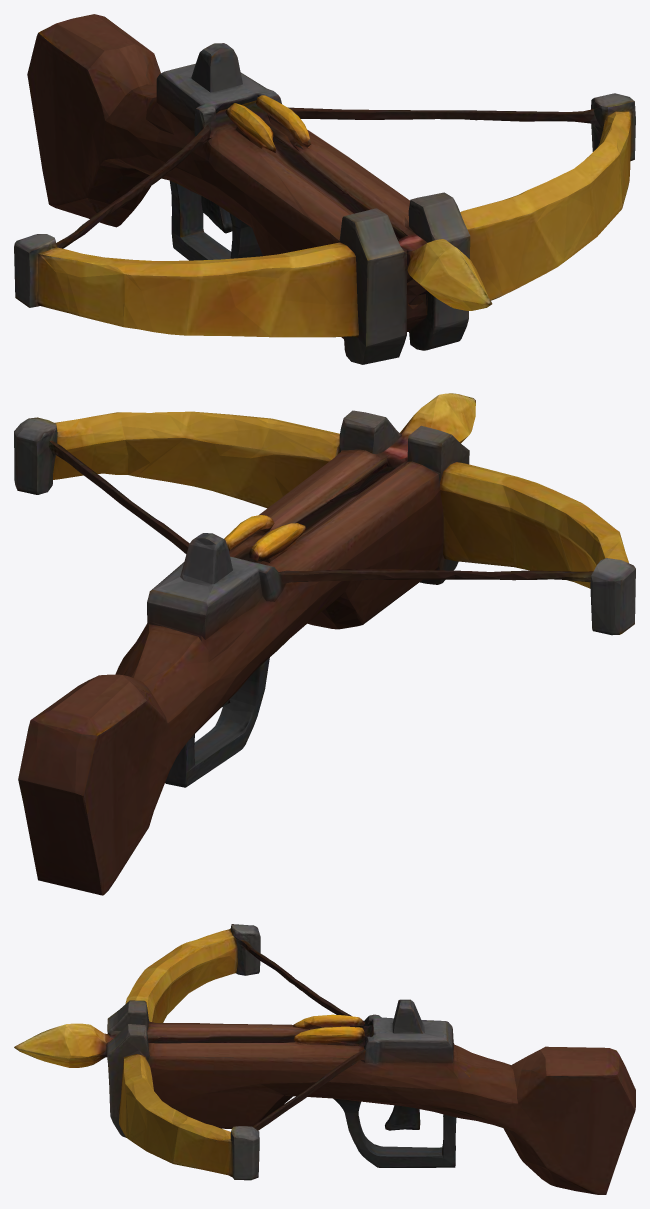
The model's file is a_ambre_arbalete.glb.
3 views of the same model, one above another, from view 1: azimuth 30°, elevation 25°; view 2: azimuth 150°, elevation 25°; view 3: azimuth 270°, elevation 25° (orthographic). The views are drawn at different scales.
Parts seen in each view (by area): view 1: geometry_0; view 2: geometry_0; view 3: geometry_0.
Boxes of the visible parts, x1=… form: geometry_0: x1=14, y1=14, x2=635, y2=364; geometry_0: x1=14, y1=393, x2=635, y2=895; geometry_0: x1=14, y1=924, x2=635, y2=1194.
Size of the model in its own units: 0.8196 by 0.3235 by 0.9991.
Materials: 1 (1 with a texture image).
